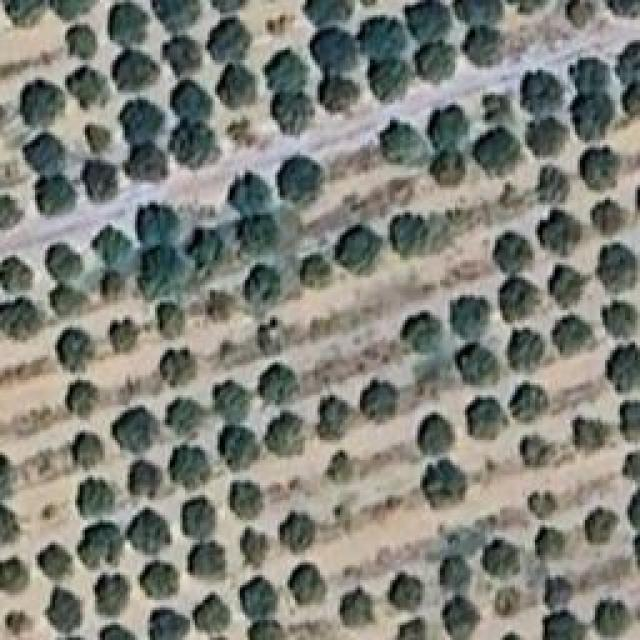Tree: (334, 222, 388, 279), (137, 245, 191, 299), (377, 118, 434, 169), (274, 151, 330, 202), (472, 125, 527, 176), (166, 440, 214, 490), (416, 460, 466, 508), (536, 208, 582, 260), (228, 171, 277, 219), (110, 408, 159, 456), (257, 362, 306, 410), (132, 200, 182, 247), (168, 120, 219, 166), (108, 1, 156, 49), (310, 26, 360, 72), (19, 131, 67, 178), (269, 88, 316, 136), (240, 264, 287, 312), (74, 523, 123, 569), (360, 14, 407, 61), (123, 508, 170, 555), (215, 424, 263, 470), (262, 45, 311, 90), (20, 78, 66, 125), (479, 536, 525, 583), (233, 216, 281, 261), (463, 23, 512, 67), (412, 42, 461, 86), (110, 50, 160, 93), (313, 74, 363, 117), (573, 91, 614, 143), (356, 378, 402, 424), (215, 63, 262, 108), (367, 57, 414, 102), (464, 393, 508, 441), (119, 101, 168, 144), (449, 291, 492, 340), (31, 173, 77, 218), (164, 30, 210, 75), (497, 275, 541, 322), (287, 559, 328, 609), (399, 311, 444, 356), (265, 413, 310, 458), (388, 210, 434, 254), (508, 380, 554, 424), (553, 311, 597, 357), (598, 242, 640, 290), (52, 328, 96, 373), (518, 69, 562, 114), (210, 375, 254, 420), (505, 328, 550, 372), (581, 146, 624, 192), (73, 477, 119, 520), (180, 492, 223, 538), (311, 393, 357, 436), (0, 299, 44, 343), (438, 595, 481, 640), (597, 292, 640, 337), (455, 343, 501, 385), (518, 430, 570, 467), (430, 142, 470, 190), (188, 589, 231, 633), (224, 477, 268, 520), (566, 54, 611, 96), (182, 222, 224, 267), (383, 568, 425, 612), (593, 591, 634, 636), (549, 262, 589, 308), (206, 19, 250, 60), (186, 542, 230, 583), (79, 159, 119, 204), (123, 144, 168, 184), (92, 223, 132, 268), (603, 344, 640, 392), (158, 347, 200, 389), (44, 243, 85, 286), (33, 542, 74, 585), (277, 513, 318, 556), (416, 413, 457, 456), (408, 0, 452, 40), (122, 459, 163, 501), (170, 79, 214, 118), (427, 104, 469, 144), (162, 395, 204, 435), (68, 430, 108, 472), (238, 577, 280, 617), (572, 414, 612, 456), (533, 163, 572, 206), (45, 587, 83, 631), (527, 118, 568, 158), (589, 197, 630, 237), (138, 559, 181, 597), (71, 63, 109, 105), (494, 231, 533, 271), (144, 604, 187, 640), (153, 0, 204, 30), (239, 525, 273, 570), (337, 587, 373, 628), (0, 259, 38, 297), (297, 251, 335, 289), (582, 508, 620, 545), (94, 574, 130, 613), (437, 551, 473, 590), (533, 524, 569, 563), (538, 611, 586, 640), (63, 24, 100, 61), (322, 452, 359, 489), (106, 315, 142, 352), (66, 379, 101, 417), (225, 116, 264, 150), (456, 0, 507, 26), (542, 573, 576, 612), (300, 0, 353, 25), (199, 291, 239, 322), (155, 302, 189, 338), (255, 318, 288, 355), (0, 0, 48, 25), (478, 92, 514, 125), (0, 554, 28, 595), (384, 176, 417, 210), (96, 269, 126, 306), (525, 487, 558, 520), (327, 496, 358, 531), (82, 122, 115, 154), (614, 38, 640, 78), (494, 584, 524, 618), (505, 0, 558, 19), (618, 396, 640, 440), (499, 178, 528, 211), (50, 0, 97, 20), (0, 452, 19, 501), (214, 335, 245, 365), (568, 0, 598, 30), (263, 11, 294, 40), (4, 606, 33, 637), (0, 504, 21, 546), (247, 619, 288, 640), (0, 193, 22, 231), (394, 617, 429, 640), (95, 621, 136, 640), (617, 447, 640, 480), (36, 497, 62, 525), (620, 78, 640, 108), (607, 0, 640, 17), (208, 0, 248, 14), (628, 485, 640, 527)
